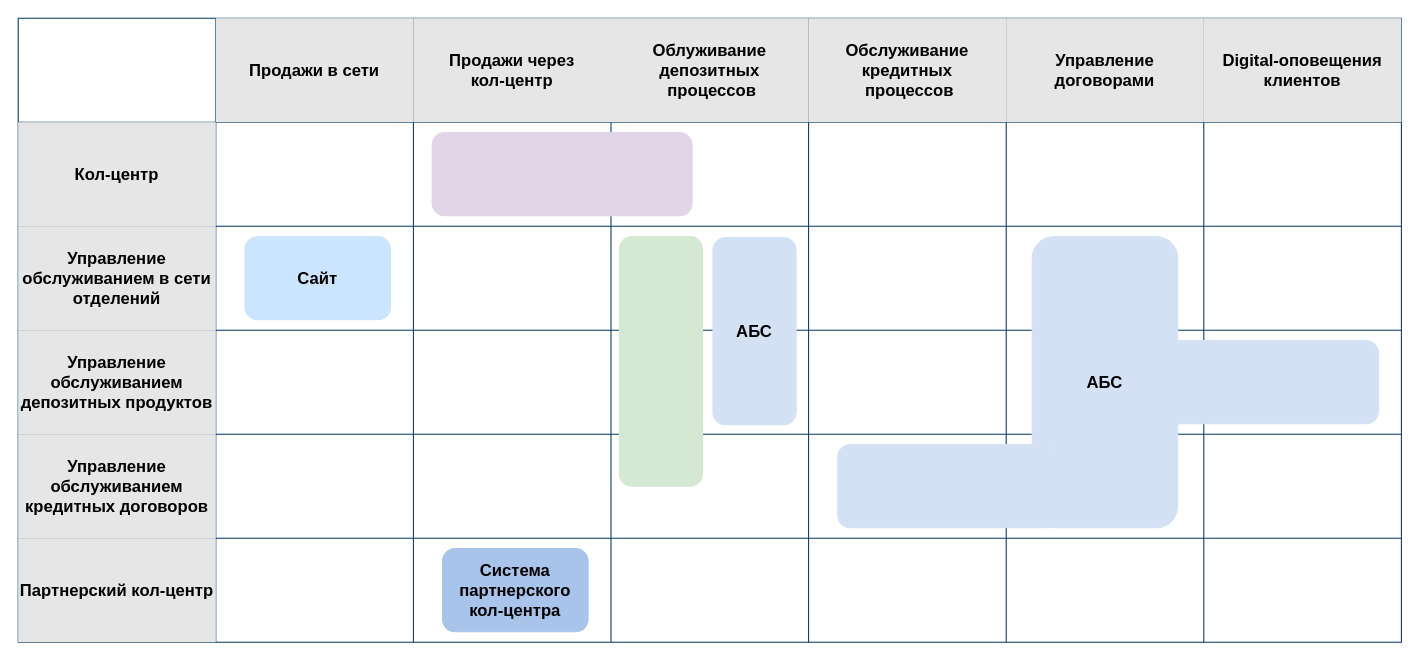
This 1420x660 diagram has some shape labels left out. Here are the shapes that lost their labels. From the top down, the centre of each, then its label:
At pixel 561 174: "Система кол-центра".
At pixel 660 361: "Система электрон. почты".
